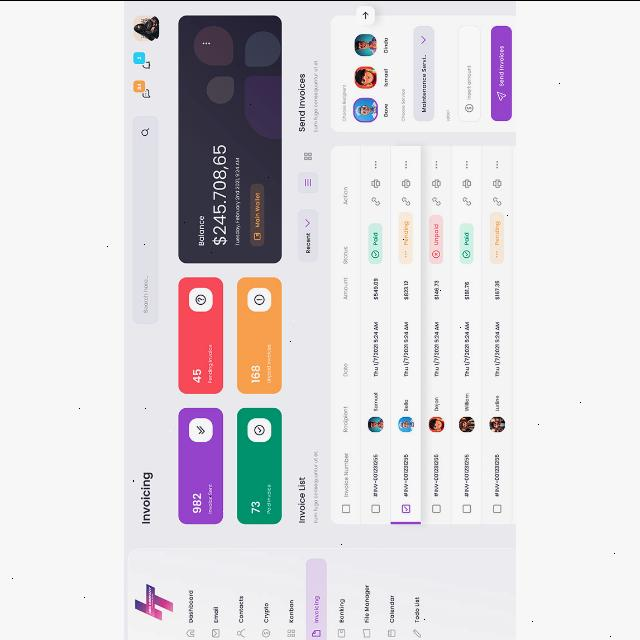QLabel: (212, 143, 228, 244), (140, 472, 154, 524), (235, 157, 241, 246), (298, 73, 306, 131), (313, 58, 319, 132), (313, 450, 319, 522), (298, 475, 306, 523), (422, 53, 428, 111), (500, 44, 506, 86), (208, 343, 214, 383), (198, 214, 205, 246), (342, 84, 348, 120), (255, 191, 261, 227), (192, 492, 202, 512), (251, 363, 261, 382), (266, 483, 272, 513), (268, 342, 272, 383), (192, 368, 202, 382), (306, 231, 312, 253), (402, 88, 406, 120), (208, 483, 212, 513), (251, 500, 261, 512), (383, 68, 389, 86), (384, 37, 388, 53), (385, 102, 389, 116), (446, 109, 450, 121)
QMenu: (126, 548, 516, 640)
VAvatar: (132, 14, 160, 40), (354, 96, 378, 122), (354, 66, 378, 88), (354, 33, 378, 55)
VBadge: (132, 80, 152, 98), (133, 52, 151, 68)
VBtn: (492, 24, 512, 120), (298, 207, 318, 261), (251, 183, 265, 245), (297, 172, 319, 192), (356, 5, 376, 22)
VCard: (178, 15, 282, 264), (330, 14, 516, 132), (237, 406, 283, 524), (178, 406, 224, 524), (237, 276, 283, 394), (178, 276, 224, 392)
VCombobox: (414, 25, 436, 121)
VDataTable: (329, 145, 516, 525)
VIcon: (254, 424, 264, 434), (255, 294, 265, 304), (196, 294, 206, 304), (498, 90, 507, 100), (197, 424, 206, 434), (304, 152, 312, 160), (362, 10, 370, 18), (306, 178, 312, 186), (254, 232, 262, 238), (202, 41, 212, 45), (306, 218, 310, 226)
VTextField: (132, 115, 160, 323), (458, 24, 482, 120)
